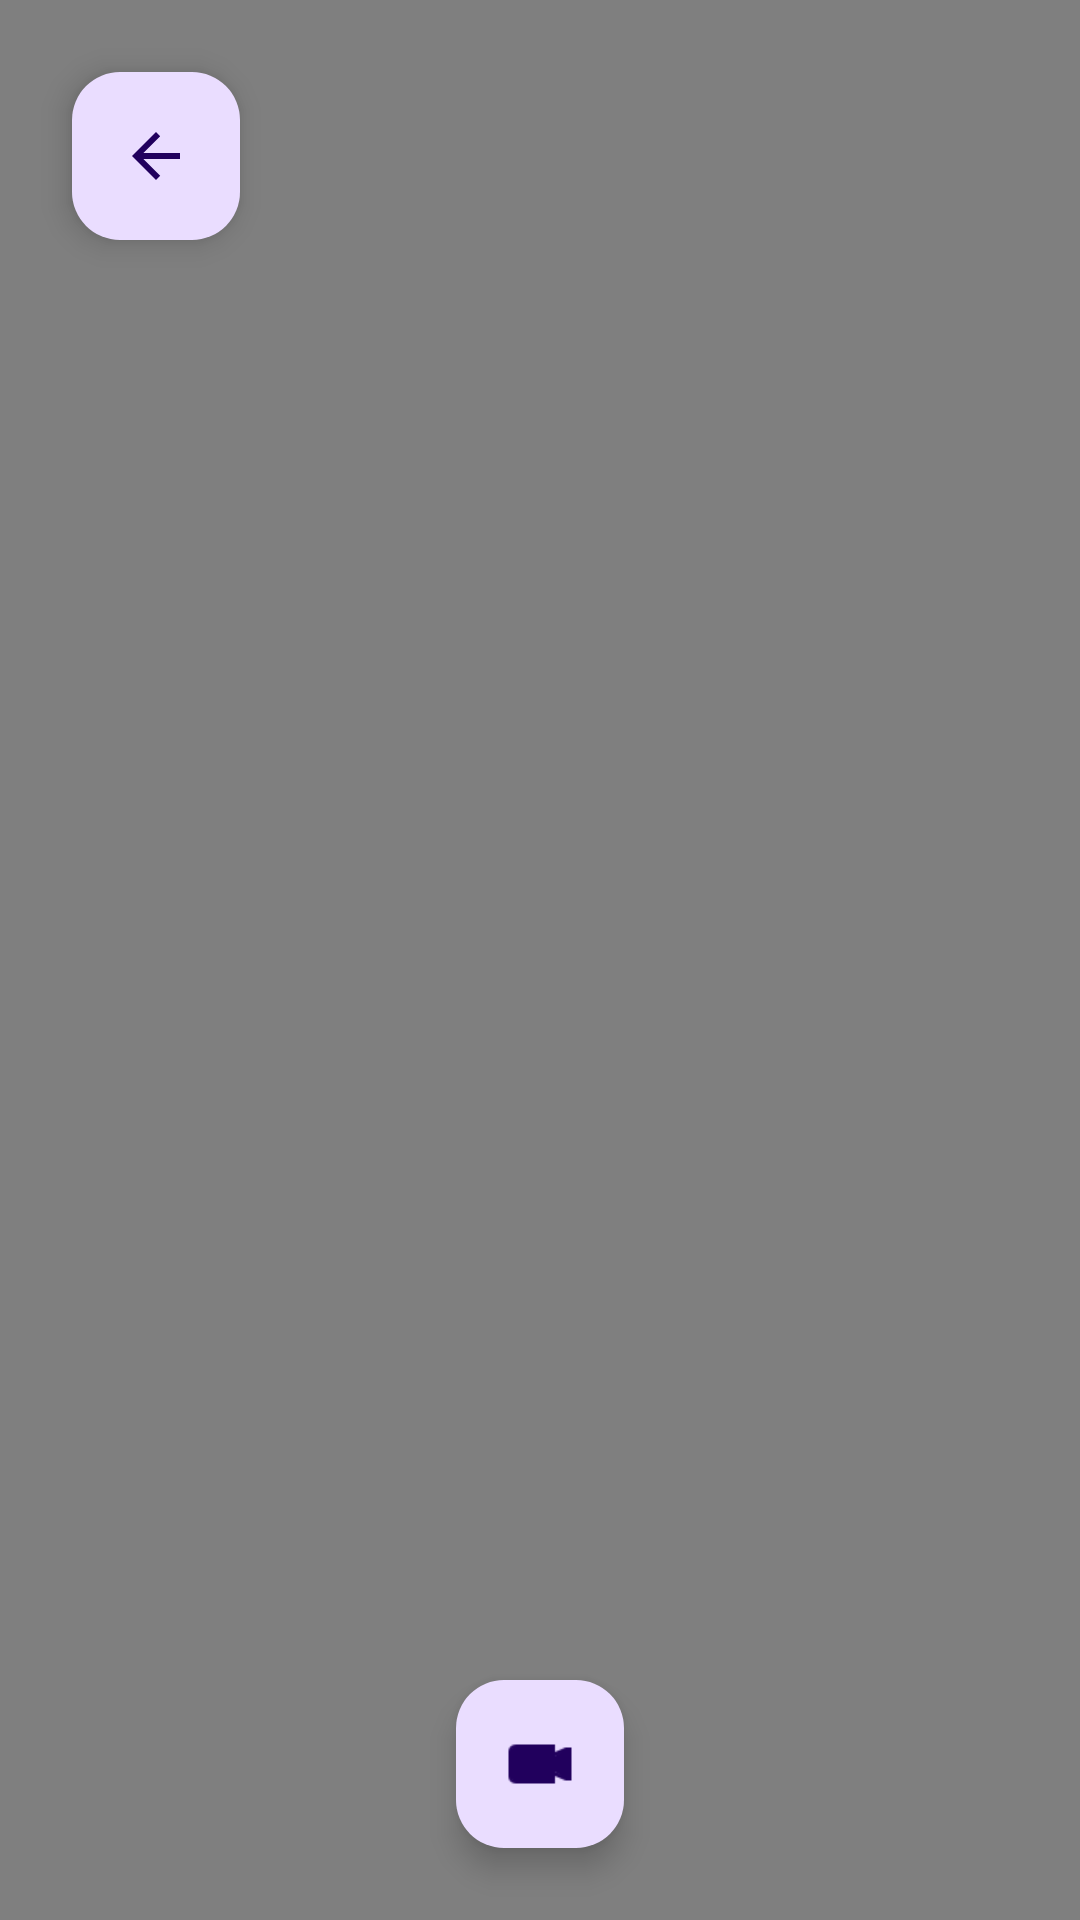

Icon click points for this 1080 x 1920 phone screenshot, format (x,y):
presence video online: (540,1764)
